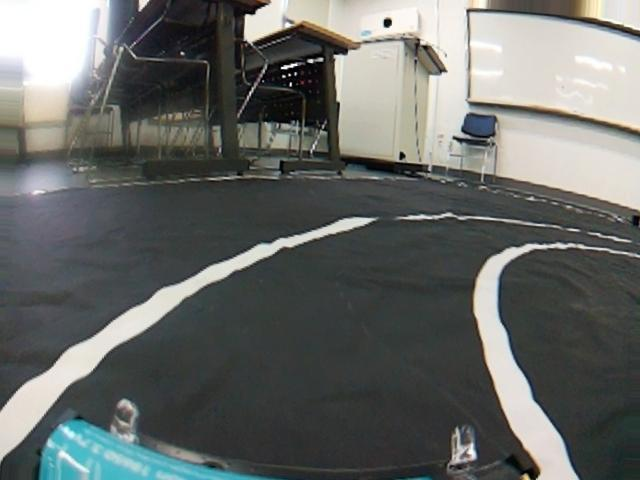right: (1, 194, 640, 480)
